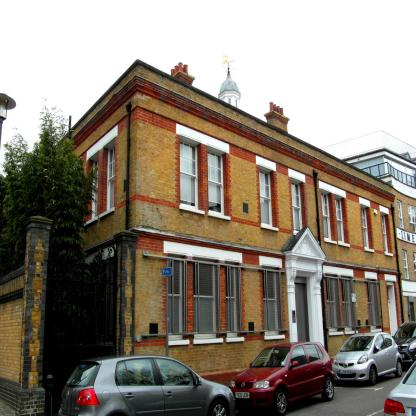Car: (57, 356, 236, 416), (233, 344, 341, 416), (331, 331, 404, 387), (385, 358, 416, 416), (390, 320, 416, 364)
